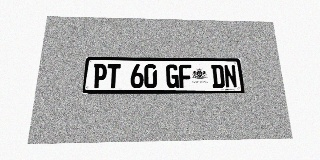0: (144, 64, 157, 88)
6: (130, 64, 144, 88)
D: (211, 65, 225, 88)
F: (179, 64, 192, 88)
G: (166, 64, 179, 88)
N: (223, 65, 238, 88)
P: (92, 64, 107, 88)
T: (106, 64, 121, 88)
